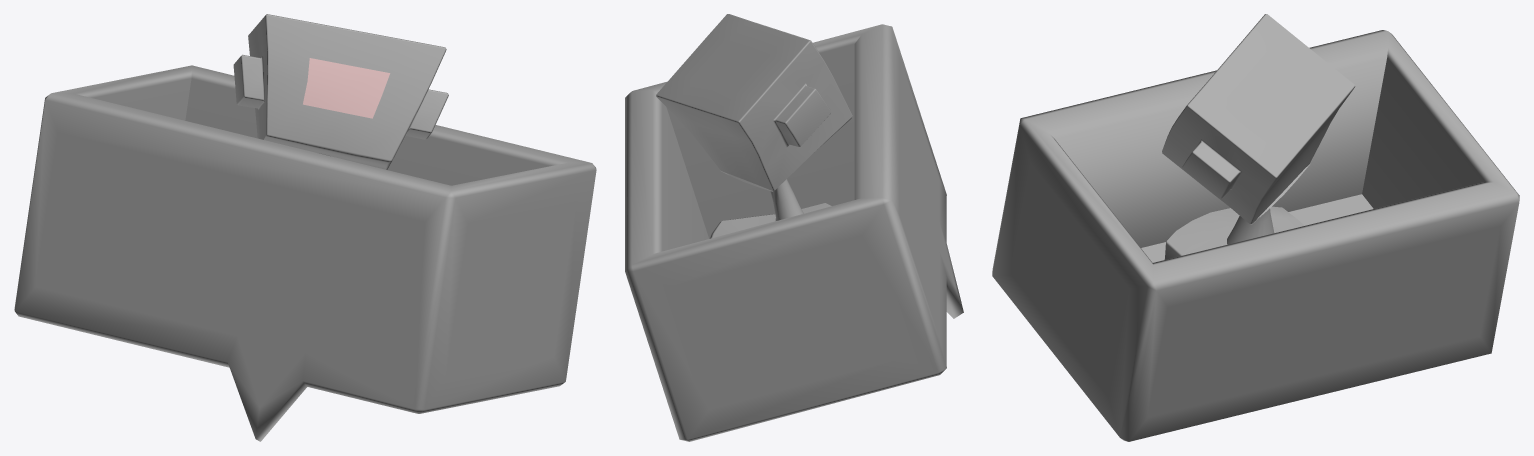
The model's file is Chess_32.fbx.
3 renders of one model, left to right at view 1: azimuth 30°, elevation 25°; view 2: azimuth 150°, elevation 25°; view 3: azimuth 270°, elevation 25°, orthographic. The views are drawn at different scales.
Visible parts, largest first — view 1: Chess_32_1, Chess_32_2_1, Chess_32_2_2; view 2: Chess_32_1, Chess_32_2_1; view 3: Chess_32_1, Chess_32_2_1.
Part boxes in pixels (x1,y1,x2,y2): Chess_32_1: (14,65,596,441); Chess_32_2_1: (233,14,448,169); Chess_32_2_2: (303,58,390,118); Chess_32_1: (625,24,963,441); Chess_32_2_1: (656,14,852,238); Chess_32_1: (992,30,1519,441); Chess_32_2_1: (1162,14,1355,259).
Bounding box in the file's own units: 3.99 × 2.96 × 4.26.
